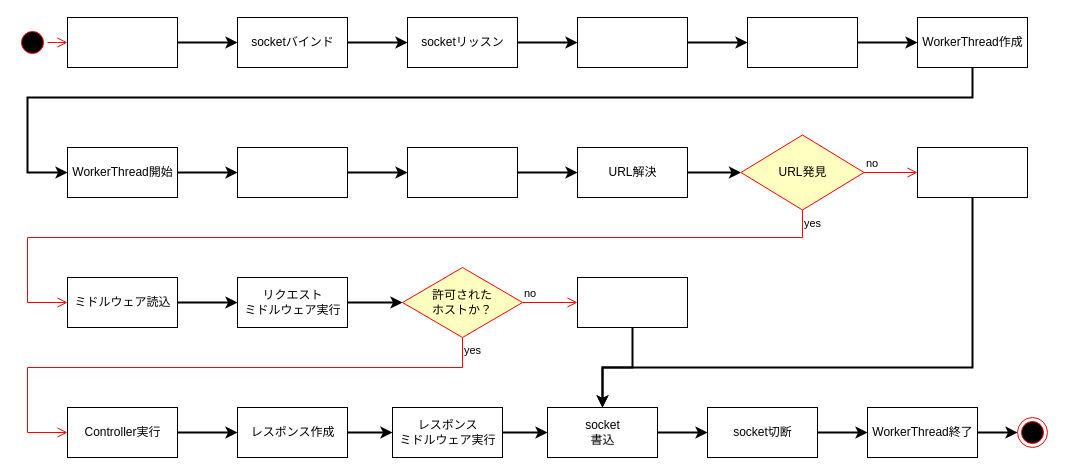
Some shapes in this 1065 by 475 pixel diagram are drawn without their labels. Each missing label, with the centre of its shape:
400 レスポンス作成: [632,302]
404 レスポンス作成: [972,172]
socket作成: [122,42]
socket接続受入: [632,42]
リクエストヘッダ 解析: [462,172]
リクエスト受信: [292,172]
個別socket作成: [802,42]
